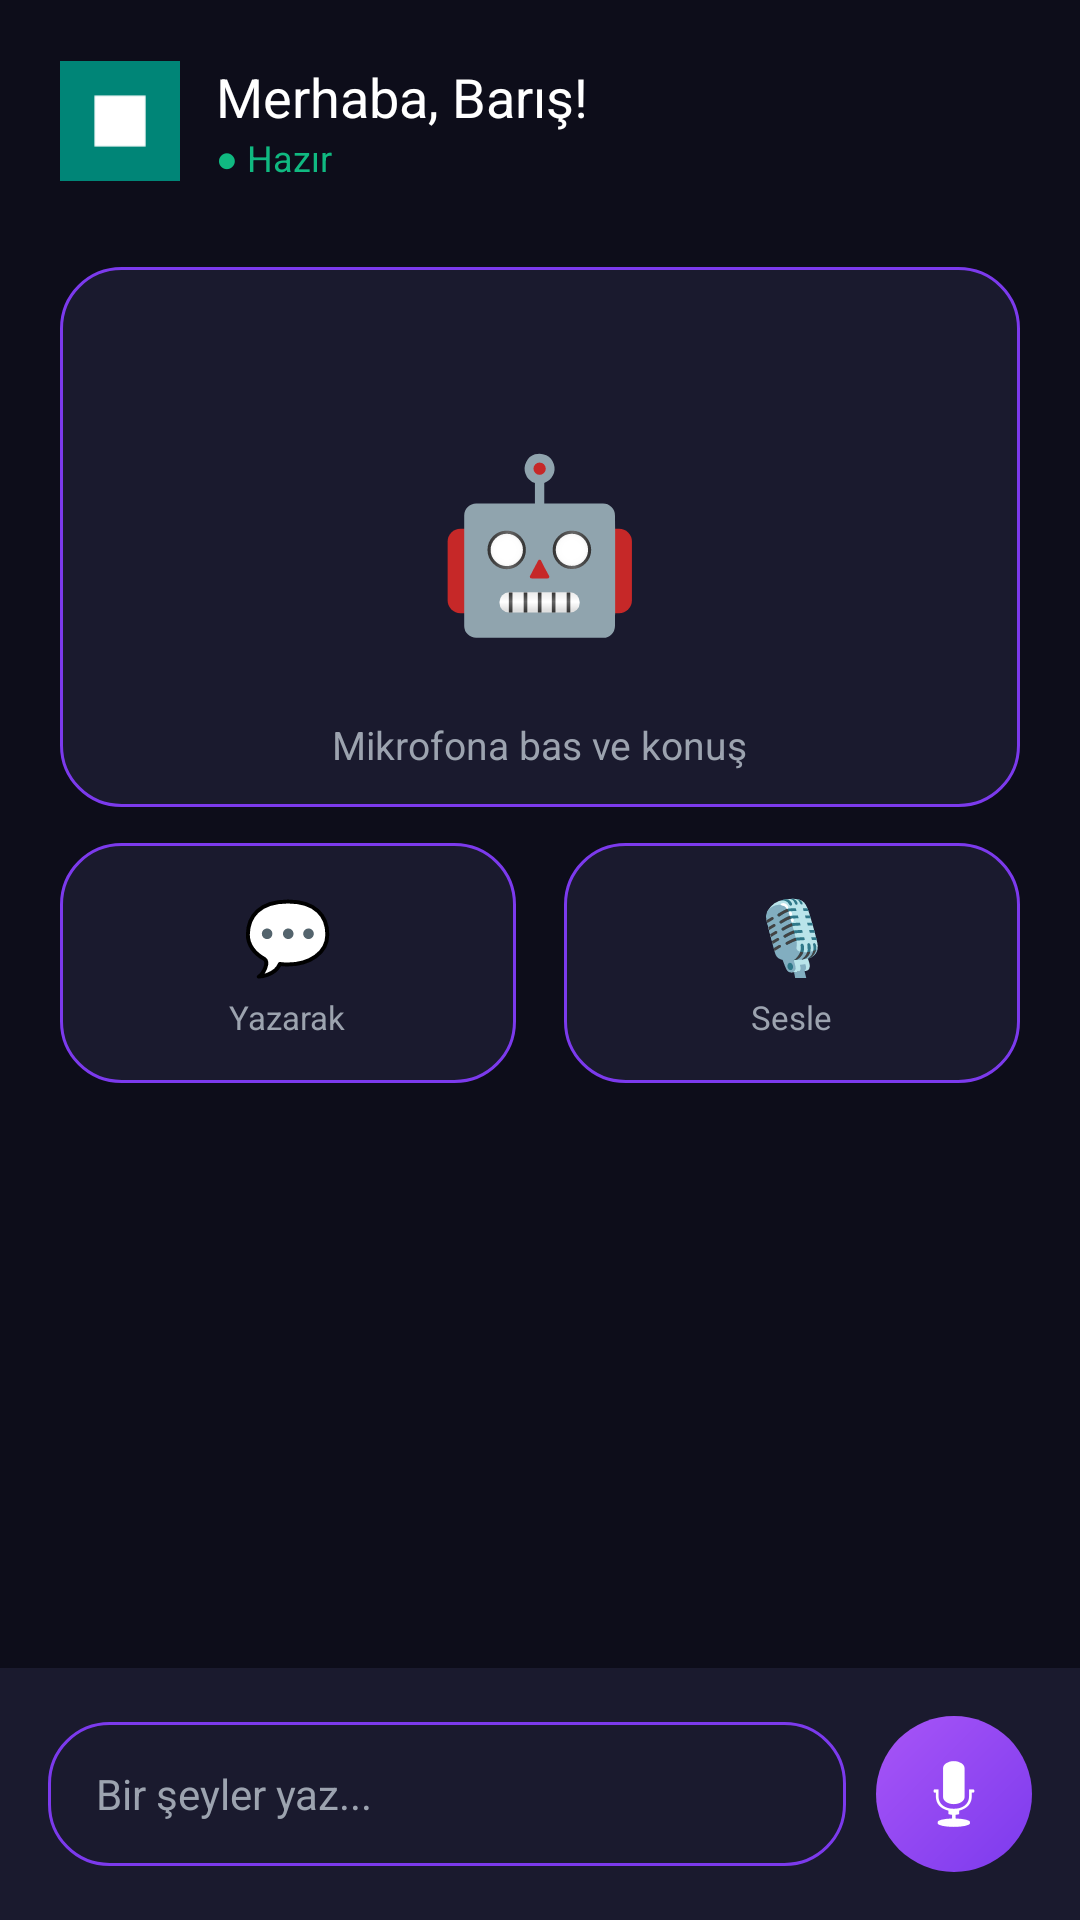

Point at icon controls on the screen. Image size 1080 x 1920, points as [x,y].
speak now: [954,1794]
